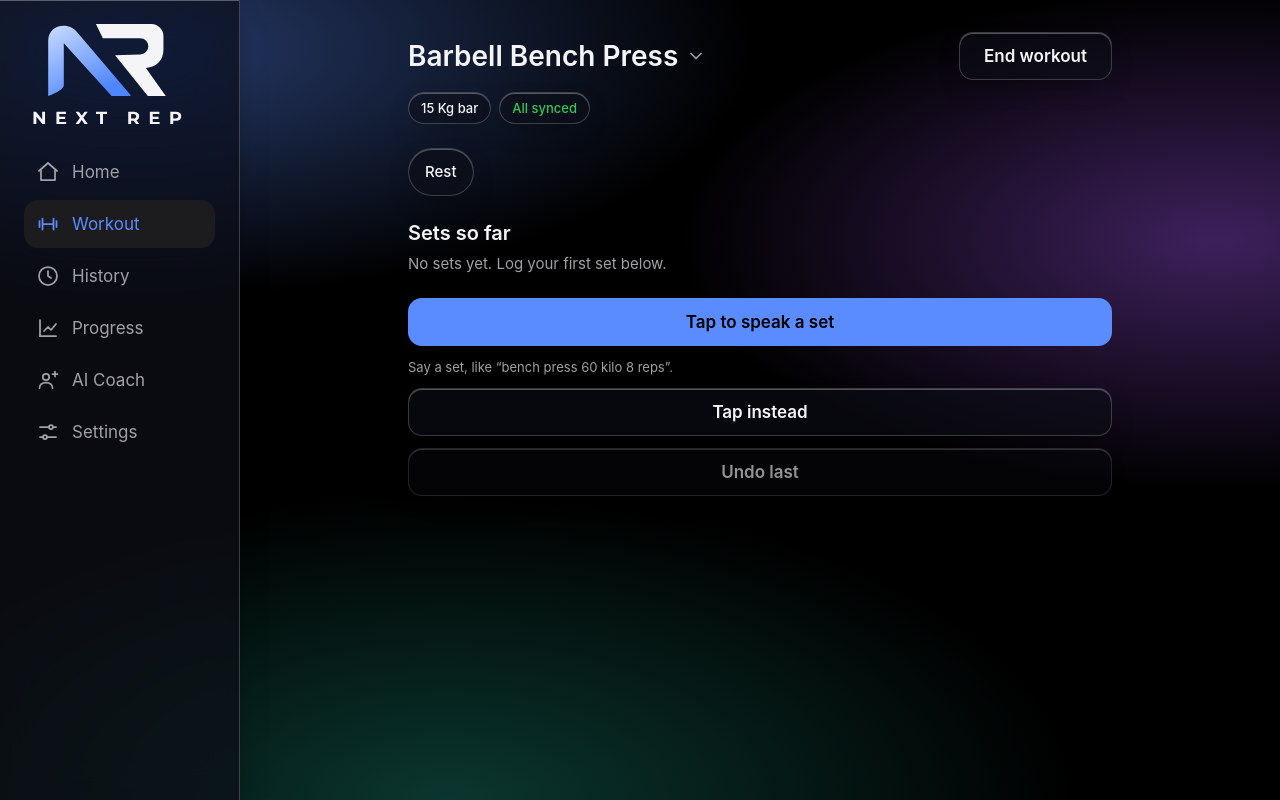
Test: voice logging on the workout page › starts the usual rest by itself after a voice set is logged
Click the button "Tap to speak a set" at (760, 322), box [408,298,1112,346]
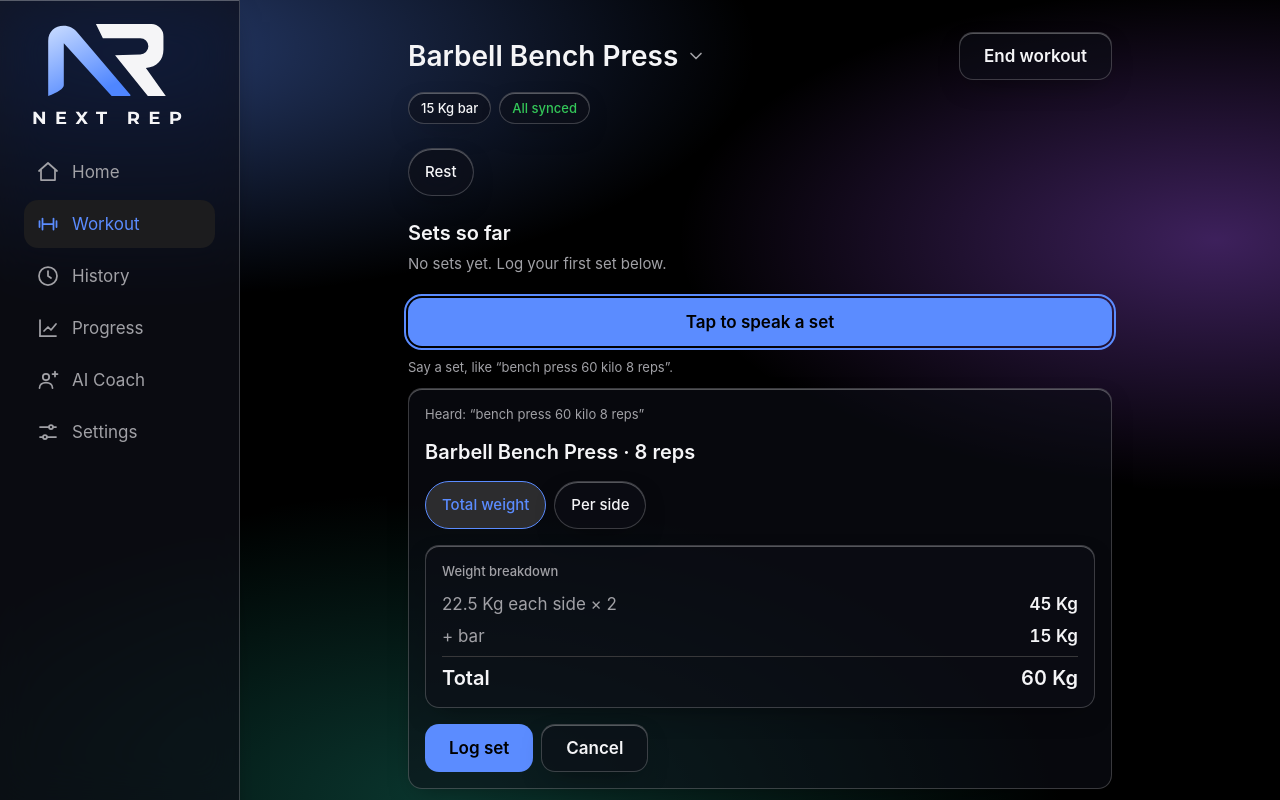
Click the button "Log set" at (479, 748), box [425,724,533,772]
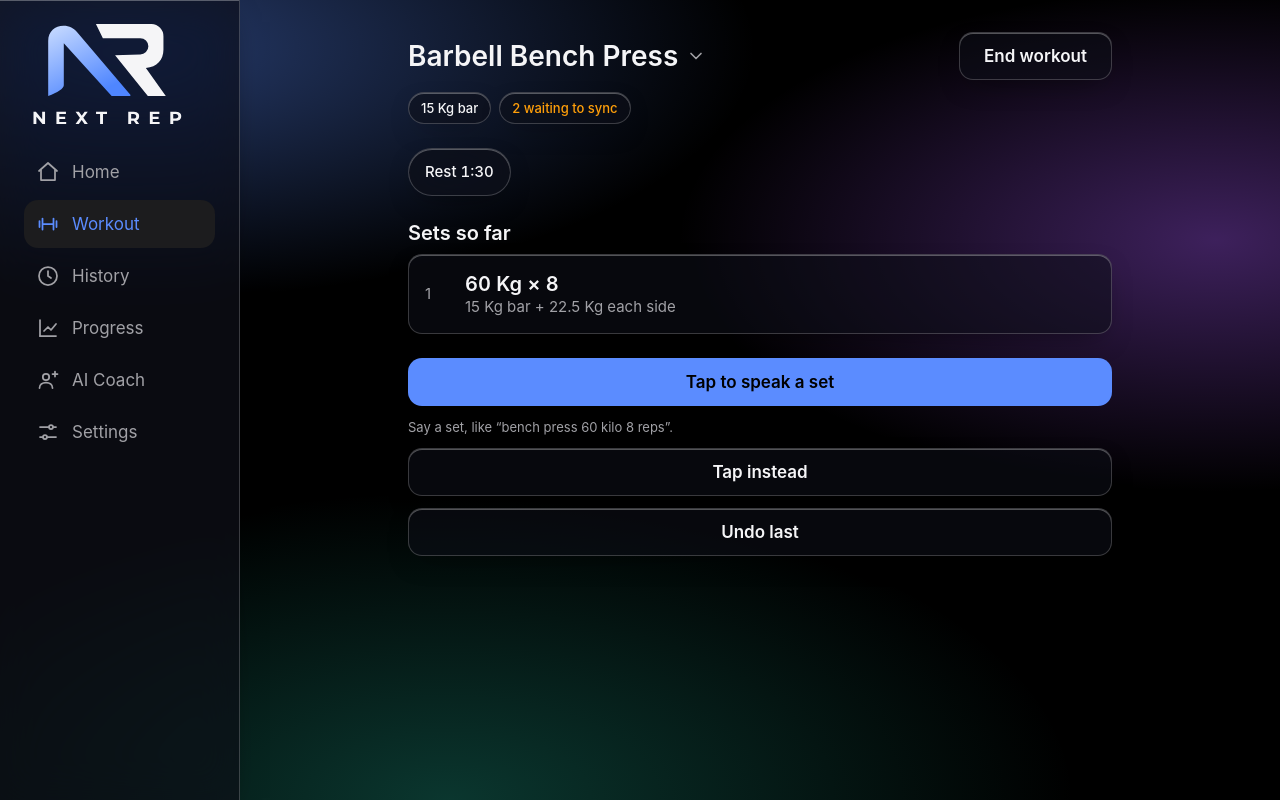
expect the button "Rest 1:30" is shown: met, box [408,148,511,196]
